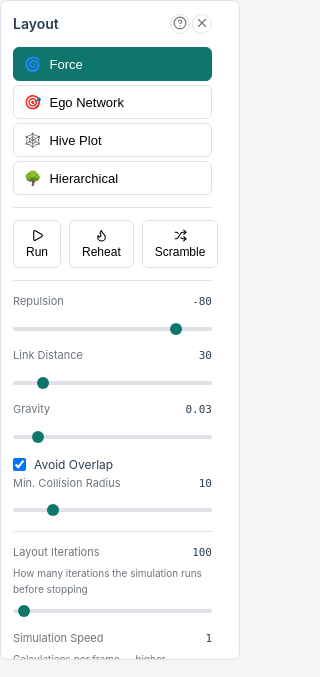
LayoutPanel — hierarchical mode block › shows hierarchical controls only in hierarchical mode
The image size is (320, 677).
Click the button with test id "layout-option-hierarchical" at (112, 178), box [13,161,212,195]
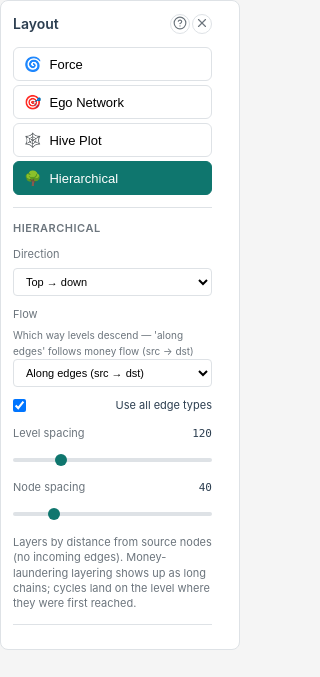
Expected: the dropdown with test id "hierarchical-direction-select" is shown, [13,268,212,296]
Expected: the dropdown with test id "hierarchical-traversal-select" is shown, [13,359,212,387]
Expected: the button "Run" is gone
